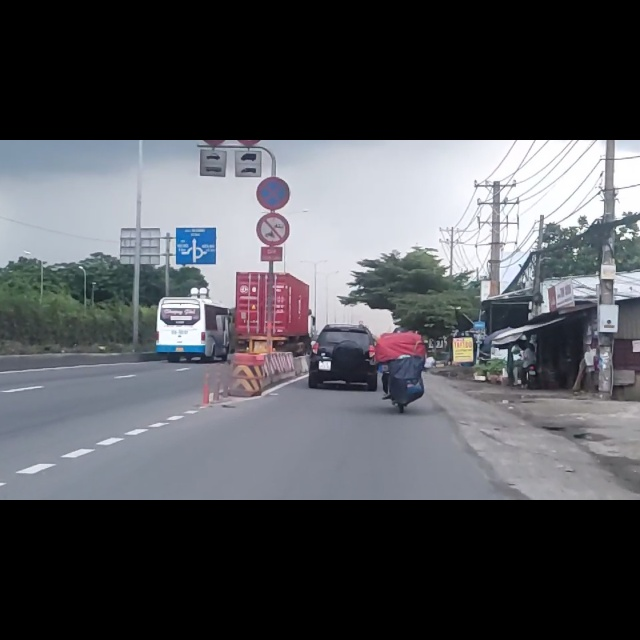bien_chi_dan: (255, 64, 291, 125), (255, 128, 291, 187)
